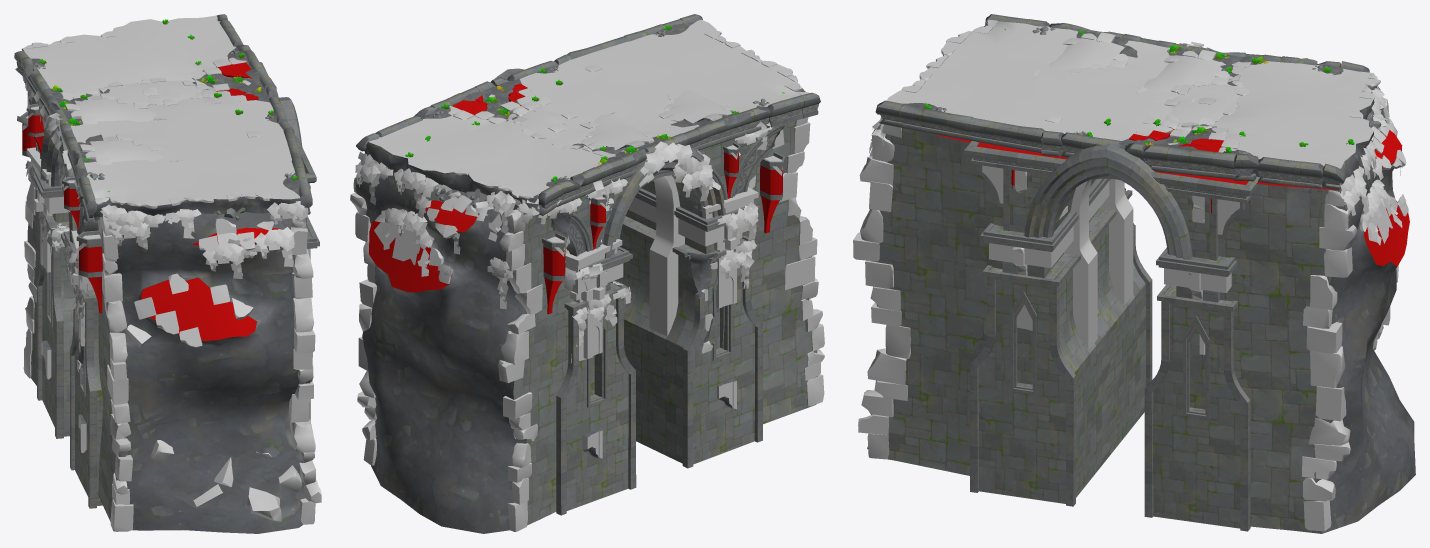
Rendered from SkillObj_Monster_Dvalin_Platform_08.fbx.
3 views of the same model, side by side, from view 1: azimuth 30°, elevation 25°; view 2: azimuth 150°, elevation 25°; view 3: azimuth 270°, elevation 25° (orthographic). The views are drawn at different scales.
Visible parts, largest first — view 1: Area_MdBuild_SdArch01_01_Wall01_Lod0, Area_MdBuild_SdBridge13_Lod0.001, Area_MdBuild_SdArch01_01_Edge01_Lod0, Area_MdBuild_SdRuins07_07_Lod0, Area_MdBuild_SdWall01_08_Lod0, Area_MdBuild_SdWall01_08_Lod0.001, Area_MdProps_SdWall_Item01_01_Lod0.001, Stages_LYLvy11_Vo.004, Stages_LYLvy11_Vo.013, Area_MdProps_SdRock01_03_Lod0.001, Stages_LYLvy11_Vo.012, Area_MdProps_SdRock01_03_Lod0.006 (+25 smaller); view 2: Area_MdBuild_SdArch01_01_Wall01_Lod0, Area_MdBuild_SdBridge13_Lod0.001, Area_MdBuild_SdArch01_01_Edge01_Lod0, Area_MdBuild_SdRuins07_07_Lod0, Area_MdBuild_SdWall01_08_Lod0, Area_MdBuild_SdWall01_08_Lod0.001, Area_MdBuild_SdArch06_01_Lod0, Area_MdBuild_SdArch06_02_Lod0, Area_MdProps_SdWall_Item01_01_Lod0.001, Area_MdProps_SdWall_Item01_01_Lod0, Area_MdProps_SdPillar02_02_Lod0, Area_MdBuild_SdArch06_04_Lod0 (+17 smaller); view 3: Area_MdBuild_SdArch01_01_Wall01_Lod0, Area_MdBuild_SdBridge13_Lod0.001, Area_MdBuild_SdArch01_01_Edge01_Lod0, Area_MdBuild_SdRuins07_07_Lod0, Area_MdBuild_SdWall01_08_Lod0, Area_MdBuild_SdWall01_08_Lod0.001, Area_MdProps_SdRock01_05_Lod0.014, Area_MdProps_SdRock01_03_Lod0.006, Area_MdProps_SdRock01_01_Lod0.021, Area_MdProps_SdRock01_01_Lod0.015, Area_MdProps_SdRock01_03_Lod0.008, Area_MdProps_SdRock01_02_Lod0.011 (+12 smaller).
Part boxes in pixels (box(x1,y1,x2,y2)): Area_MdBuild_SdArch01_01_Wall01_Lod0: box(27, 174, 311, 533); Area_MdBuild_SdBridge13_Lod0.001: box(14, 14, 312, 222); Area_MdBuild_SdArch01_01_Edge01_Lod0: box(30, 62, 319, 508); Area_MdBuild_SdRuins07_07_Lod0: box(91, 77, 209, 106); Area_MdBuild_SdWall01_08_Lod0: box(65, 93, 167, 124); Area_MdBuild_SdWall01_08_Lod0.001: box(80, 134, 182, 164); Area_MdProps_SdWall_Item01_01_Lod0.001: box(76, 230, 102, 313); Stages_LYLvy11_Vo.004: box(253, 227, 294, 266); Stages_LYLvy11_Vo.013: box(202, 243, 244, 278); Area_MdProps_SdRock01_03_Lod0.001: box(247, 487, 281, 521); Stages_LYLvy11_Vo.012: box(267, 201, 308, 228); Area_MdProps_SdRock01_03_Lod0.006: box(290, 419, 315, 452); Area_MdBuild_SdArch01_01_Wall01_Lod0: box(355, 121, 817, 533); Area_MdBuild_SdBridge13_Lod0.001: box(356, 14, 820, 215); Area_MdBuild_SdArch01_01_Edge01_Lod0: box(495, 68, 762, 515); Area_MdBuild_SdRuins07_07_Lod0: box(512, 108, 599, 150); Area_MdBuild_SdWall01_08_Lod0: box(581, 108, 657, 150); Area_MdBuild_SdWall01_08_Lod0.001: box(658, 81, 734, 123); Area_MdBuild_SdArch06_01_Lod0: box(548, 197, 593, 256); Area_MdBuild_SdArch06_02_Lod0: box(729, 116, 785, 197); Area_MdProps_SdWall_Item01_01_Lod0.001: box(760, 152, 785, 233); Area_MdProps_SdWall_Item01_01_Lod0: box(542, 233, 567, 314); Area_MdProps_SdPillar02_02_Lod0: box(570, 285, 605, 359); Area_MdBuild_SdArch06_04_Lod0: box(595, 140, 728, 250); Area_MdBuild_SdArch01_01_Wall01_Lod0: box(867, 110, 1415, 533); Area_MdBuild_SdBridge13_Lod0.001: box(875, 14, 1377, 189); Area_MdBuild_SdArch01_01_Edge01_Lod0: box(964, 44, 1259, 531); Area_MdBuild_SdRuins07_07_Lod0: box(1164, 74, 1249, 127); Area_MdBuild_SdWall01_08_Lod0: box(1136, 50, 1229, 93); Area_MdBuild_SdWall01_08_Lod0.001: box(1033, 32, 1128, 75); Area_MdProps_SdRock01_05_Lod0.014: box(1310, 346, 1345, 388); Area_MdProps_SdRock01_03_Lod0.006: box(867, 348, 907, 385); Area_MdProps_SdRock01_01_Lod0.021: box(1315, 386, 1346, 421); Area_MdProps_SdRock01_01_Lod0.015: box(1306, 322, 1342, 353); Area_MdProps_SdRock01_03_Lod0.008: box(1308, 418, 1350, 445); Area_MdProps_SdRock01_02_Lod0.011: box(1310, 275, 1337, 309).
Bounding box in the file's own units: 33.21 × 35.53 × 48.8.
